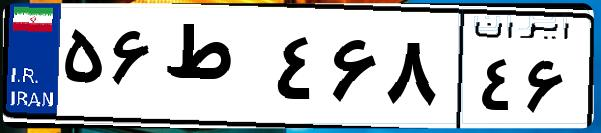4: (270, 28, 330, 110), (475, 38, 525, 113)
5: (57, 26, 110, 100)
6: (330, 28, 385, 110), (525, 38, 570, 115), (110, 28, 158, 98)
8: (385, 28, 445, 110)
ط: (158, 20, 270, 120)
